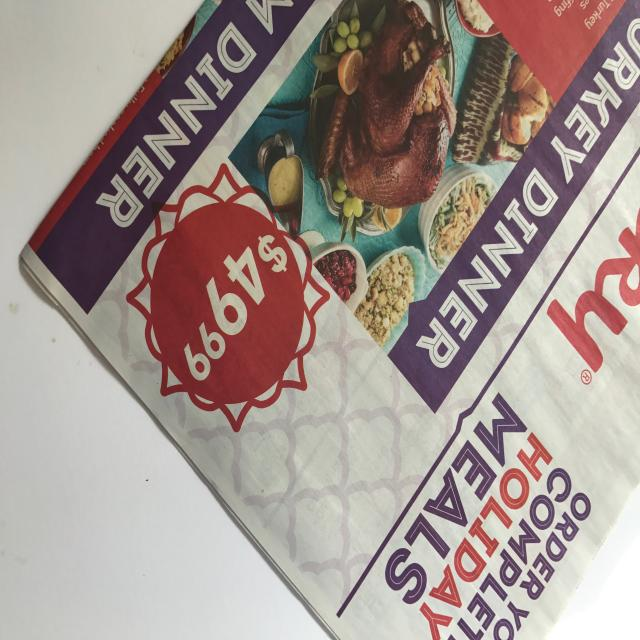paper: (17, 0, 639, 639)
